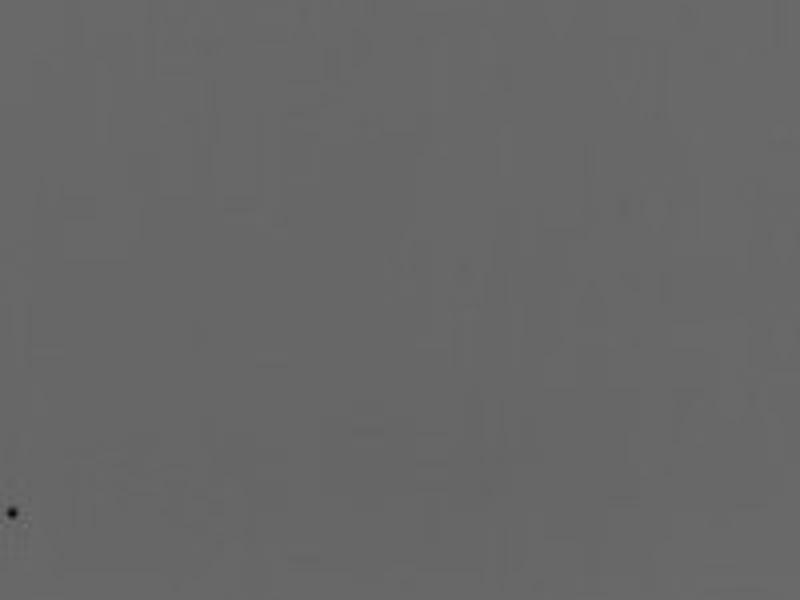defect: (4, 504, 24, 524)
